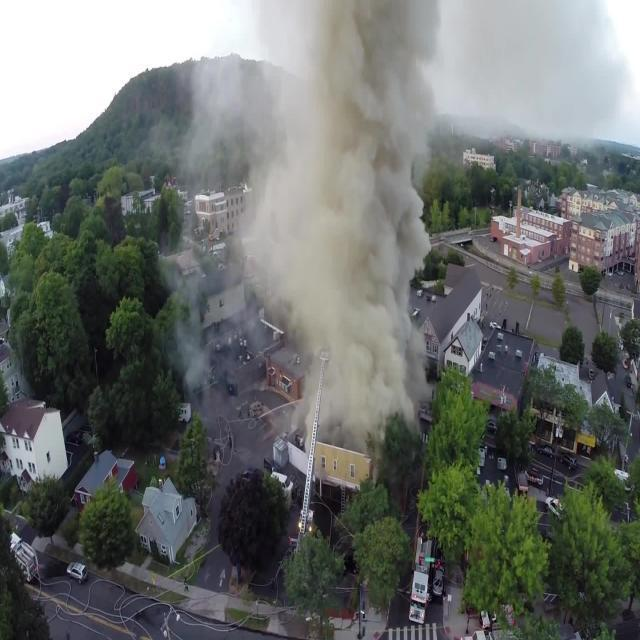Smoke: (249, 0, 439, 447)
